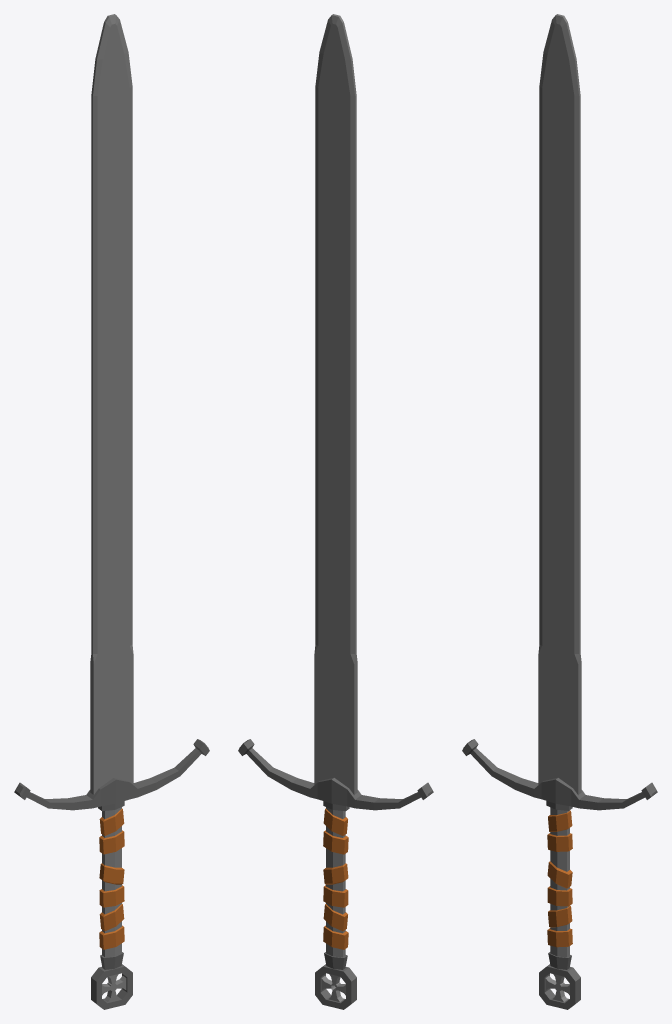
Rendered from sword_5.fbx.
3 views of the same model, side by side, from view 1: azimuth 30°, elevation 25°; view 2: azimuth 150°, elevation 25°; view 3: azimuth 330°, elevation 25° (orthographic).
Visible parts, largest first — view 1: Sword; view 2: Sword; view 3: Sword.
Part boxes in pixels (x1=…): Sword: x1=14, y1=14, x2=209, y2=1009; Sword: x1=238, y1=14, x2=433, y2=1009; Sword: x1=462, y1=14, x2=657, y2=1009.
Size of the model in its own units: 56.25 by 281 by 4.54.
